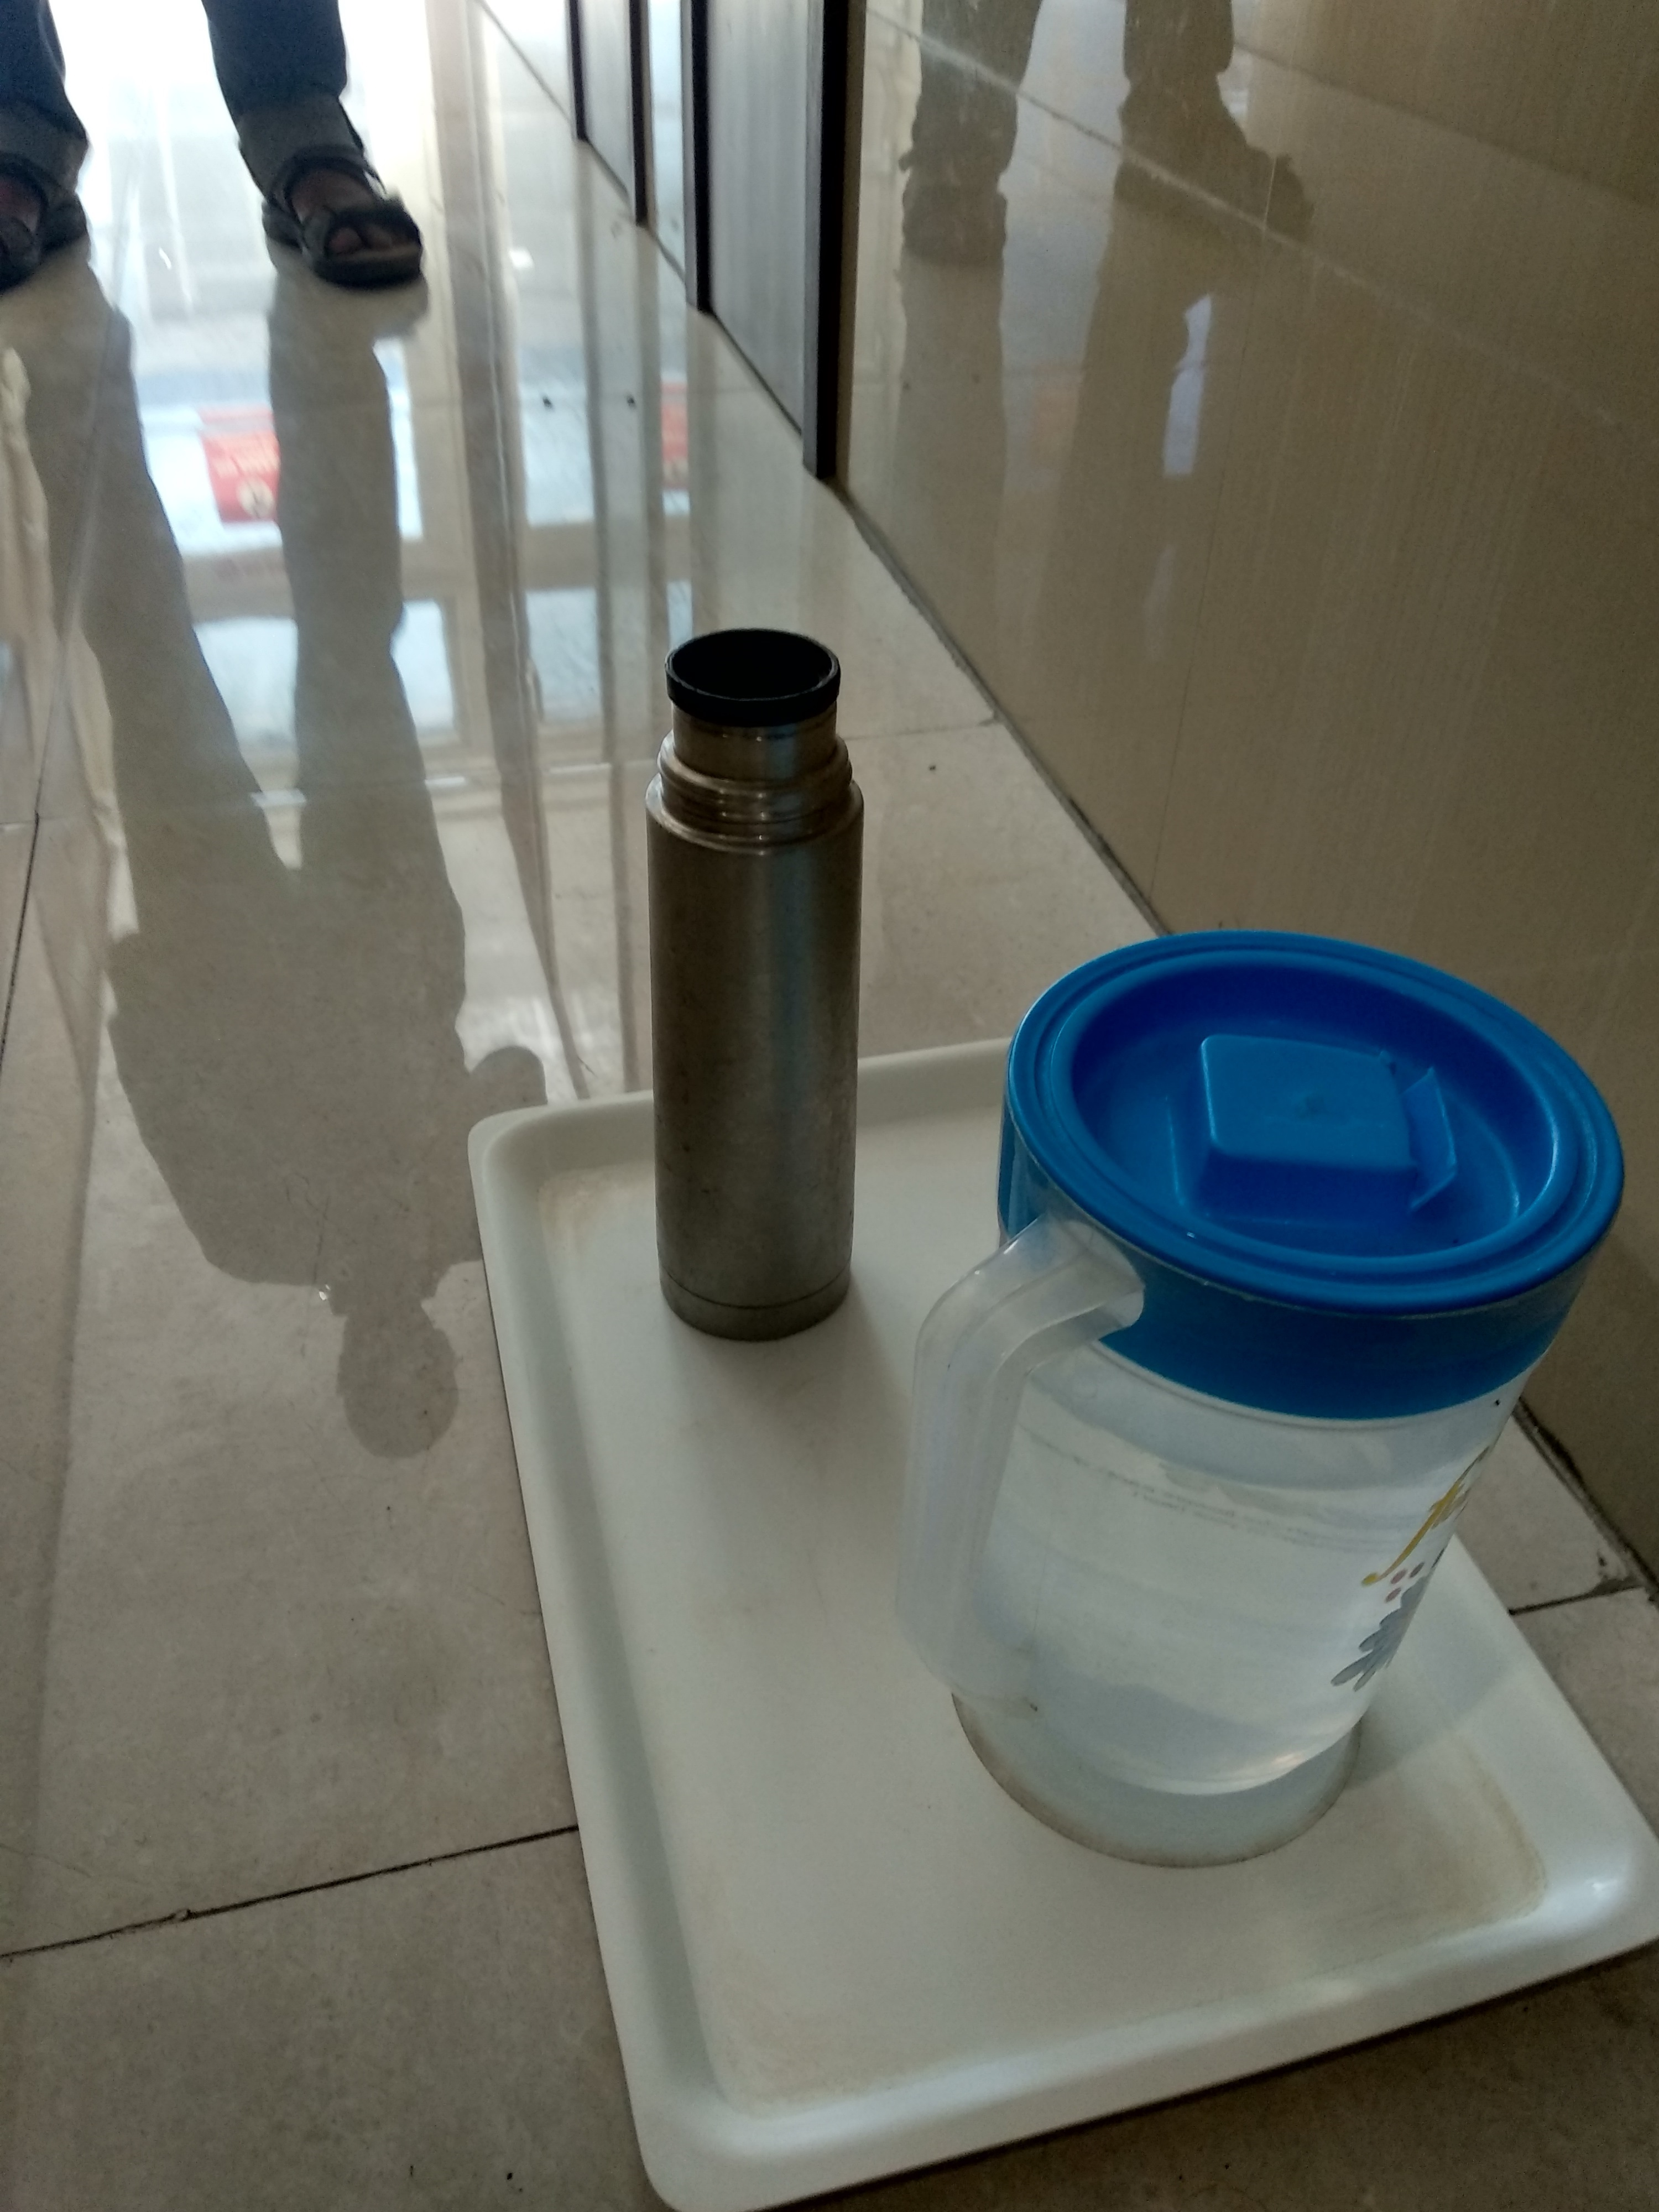FLASK: (563, 517, 929, 1385)
JUG: (910, 935, 1617, 1935)
